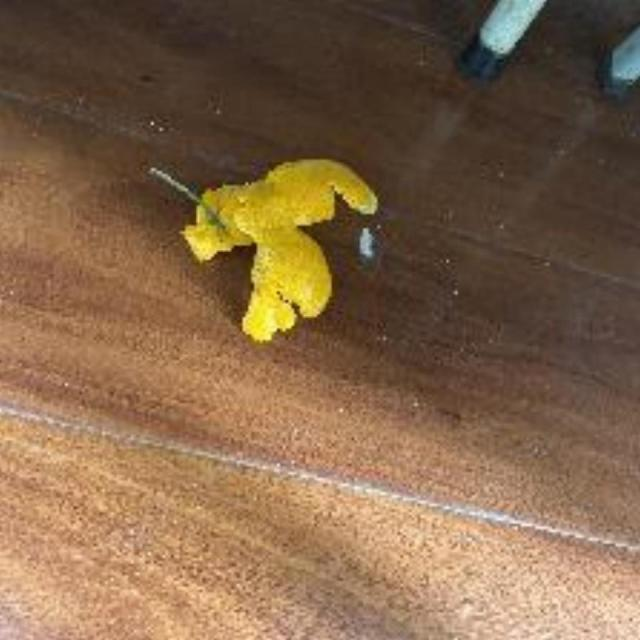orange-peel: (179, 155, 380, 344)
